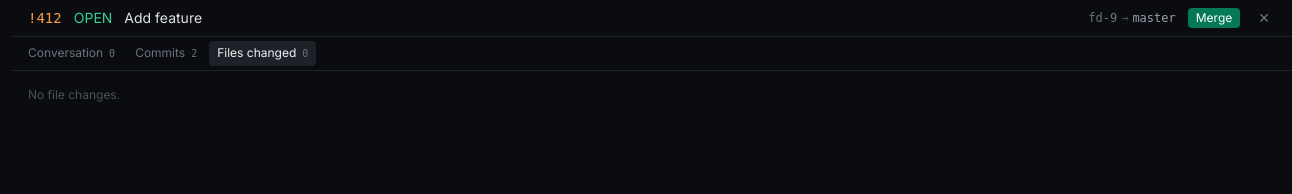
Test case: MrReview › lists the review commits in their own tab, in provider order
Click the button named "Commits 2". click: (166, 54)
box: [127,41,205,66]
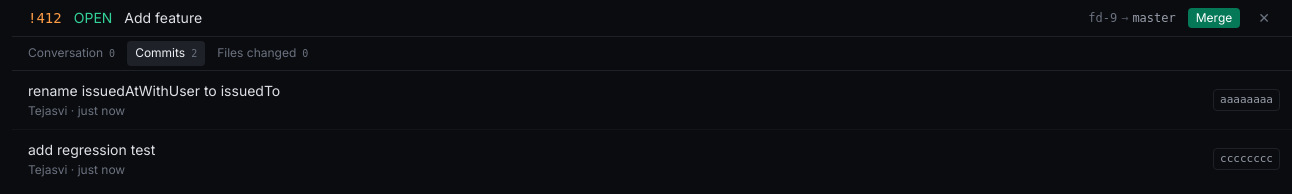
Expected: the button with aria-label "View commit aaaaaaaa" is shown, [12,71,1213,129]
Expected: the button with aria-label "Copy commit sha aaaaaaaa" is shown, [1213,89,1280,111]
